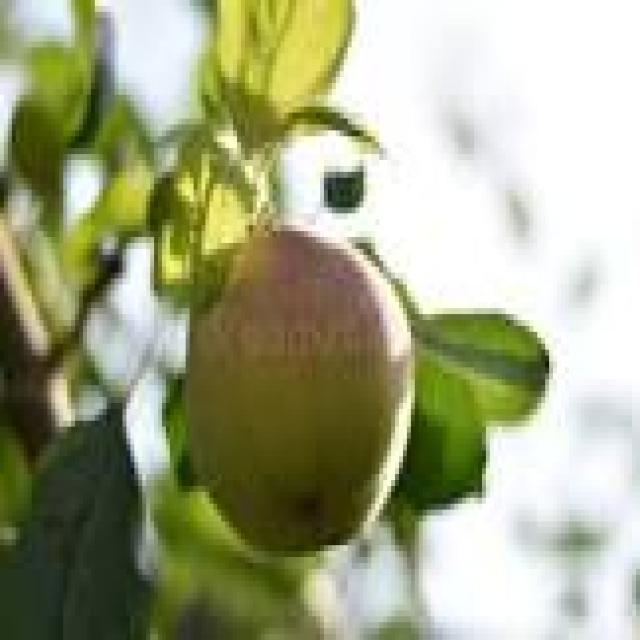Unripe: (185, 225, 416, 554)
